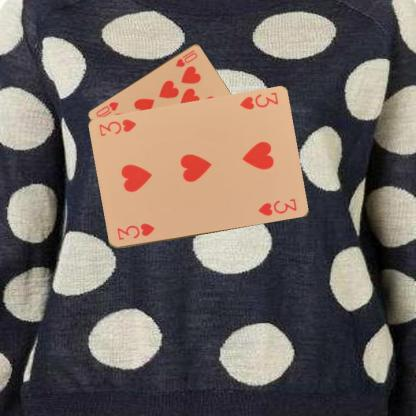10h: (173, 47, 199, 68)
3h: (237, 90, 280, 112), (114, 221, 156, 242)
